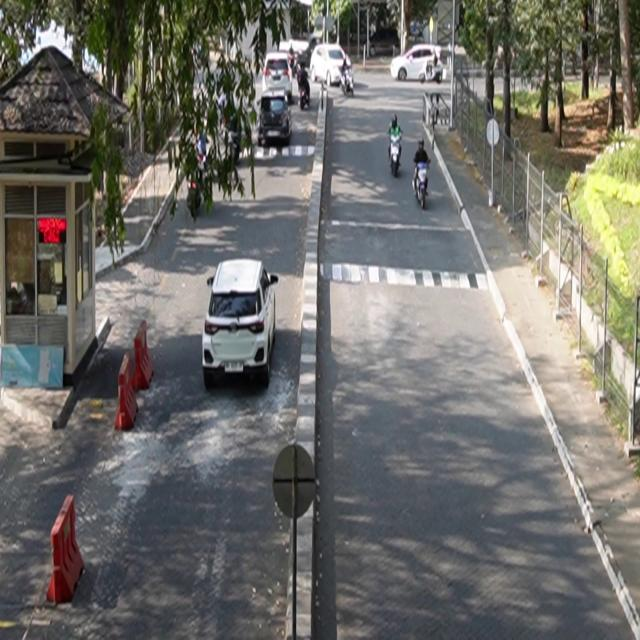car: (203, 258, 280, 389), (391, 45, 445, 84), (257, 90, 293, 148)
